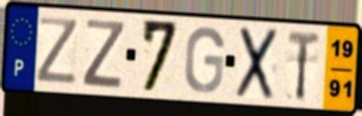7: (139, 17, 180, 95)
G: (182, 24, 227, 95)
T: (286, 28, 322, 104)
X: (233, 25, 281, 102)
Z: (80, 17, 127, 91), (34, 15, 81, 87)
